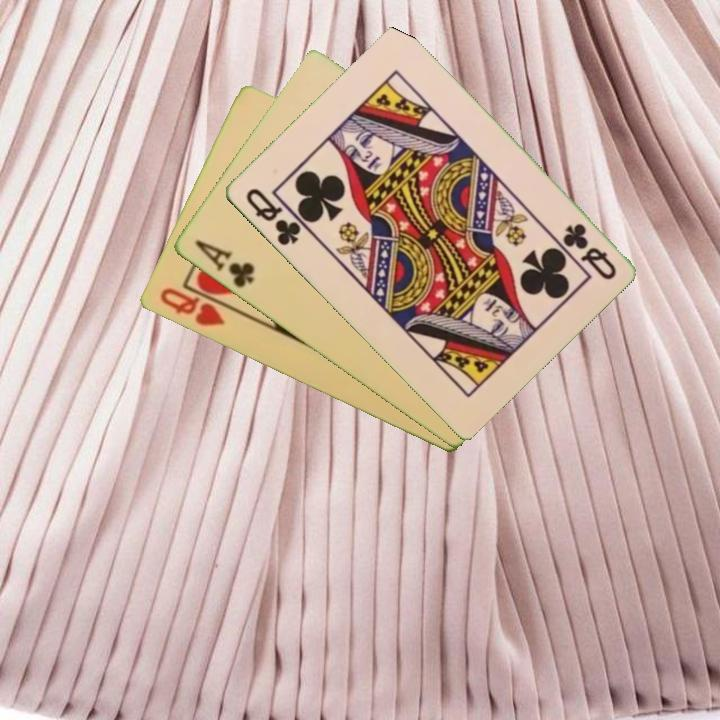Ac: (190, 236, 258, 291)
Qc: (241, 184, 303, 249), (558, 219, 619, 283)
Qh: (155, 284, 227, 330)
